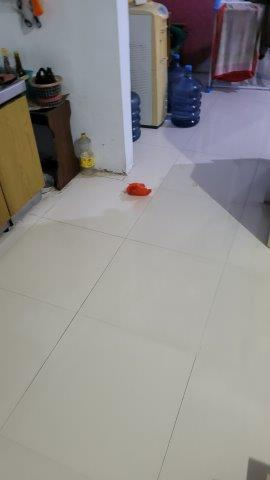plastik: (124, 181, 152, 200)
